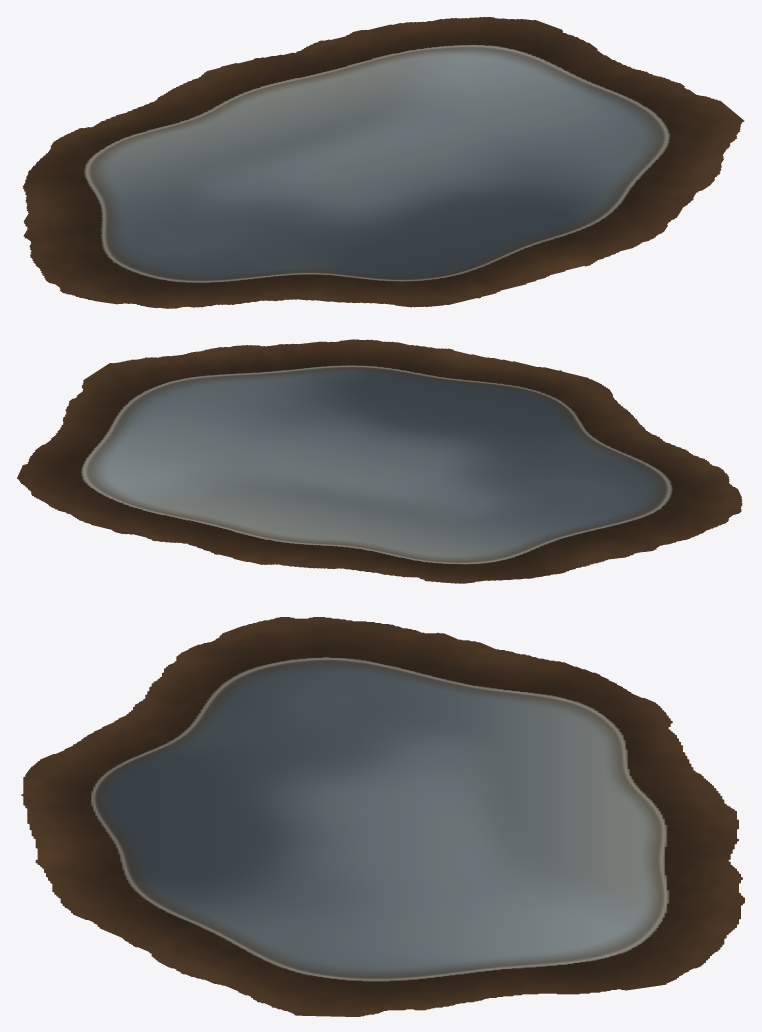
The model's file is fm_puddle_rain_small.glb.
3 renders of one model, top to bottom at view 1: azimuth 30°, elevation 25°; view 2: azimuth 150°, elevation 25°; view 3: azimuth 270°, elevation 25°, orthographic. The views are drawn at different scales.
Visible parts, largest first — view 1: fm_puddle_rain_small; view 2: fm_puddle_rain_small; view 3: fm_puddle_rain_small.
Part boxes in pixels (x1,y1,x2,y2): fm_puddle_rain_small: (22,17,744,308); fm_puddle_rain_small: (17,339,742,583); fm_puddle_rain_small: (21,617,744,1016).
Size of the model in its own units: 0.5909 by 0 by 0.4541.
1 material, 1 textured.
